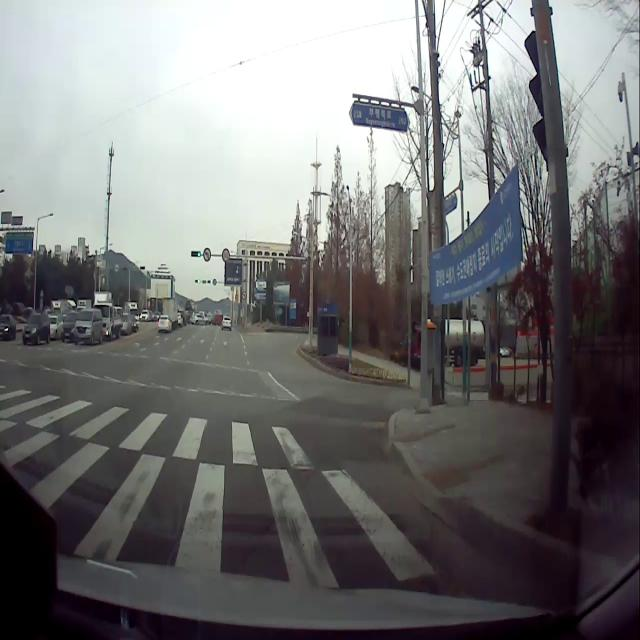Green Light: (197, 251, 201, 258)
